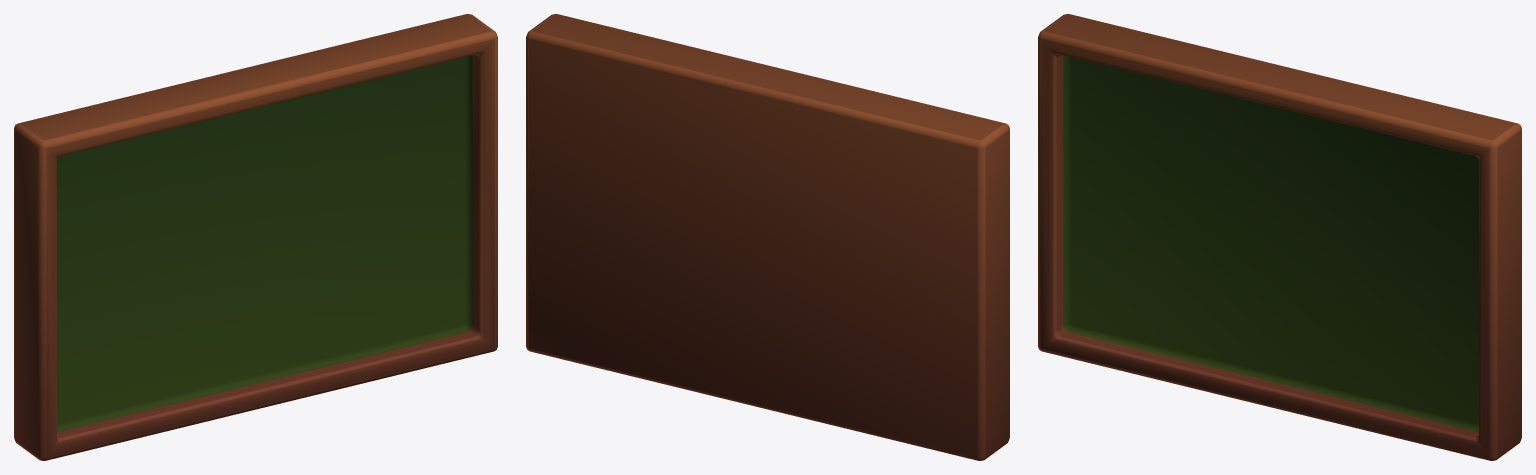
Rendered from desk.fbx.
The picture shows the model from 3 angles, left to right: view 1: azimuth 30°, elevation 25°; view 2: azimuth 150°, elevation 25°; view 3: azimuth 330°, elevation 25°; orthographic projection.
Parts seen in each view (by area): view 1: desk; view 2: desk; view 3: desk.
Boxes of the visible parts, box(x1,y1,x2,y2) form: desk: box(14, 14, 497, 460); desk: box(526, 14, 1009, 460); desk: box(1038, 14, 1521, 460).
Bounding box in the file's own units: 360 × 240 × 40.
